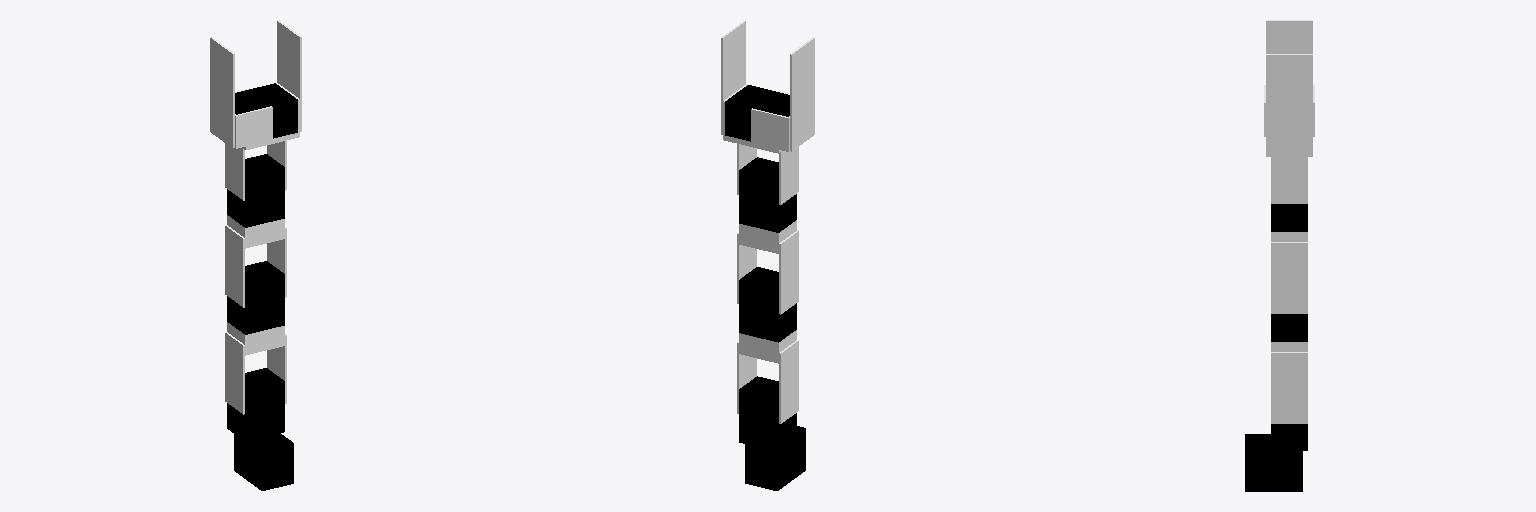
URDF robot description (MYRAbot-arm):
<?xml version="1.0" ?>
<!-- =================================================================================== -->
<!-- |    This document was autogenerated by xacro from brazo.urdf.xacro               | -->
<!-- |    EDITING THIS FILE BY HAND IS NOT RECOMMENDED                                 | -->
<!-- =================================================================================== -->
<robot name="MYRAbot-arm">
  <link name="base_link">
    <visual>
      <geometry>
        <box size="0.032 0.05 0.04"/>
      </geometry>
      <origin rpy="0 0 0" xyz="0 -0.0135 0.020"/>
      <material name="black">
        <color rgba="0 0 0 1"/>
      </material>
    </visual>
    <collision>
      <origin rpy="0 0 0" xyz="0 -0.0135 0.020"/>
      <geometry>
        <box size="0.032 0.05 0.04"/>
      </geometry>
    </collision>
    <inertial>
      <origin rpy="0 0 0" xyz="0 -0.0135 0.020"/>
      <mass value="0.055"/>
      <inertia ixx="0.01" ixy="0.0" ixz="0.0" iyy="0.01" iyz="0.0" izz="0.01"/>
    </inertial>
  </link>
  <link name="world"/>
  <joint name="fixed" type="fixed">
    <parent link="world"/>
    <child link="base_link"/>
    <origin rpy="0 0 0" xyz="0 0 0"/>
    <axis xyz="0 0 1"/>
  </joint>

  <joint name="base" type="revolute">
    <parent link="base_link"/>
    <child link="hombro_link"/>
    <origin rpy="0 0 0" xyz="0 0 0.04"/>
    <axis xyz="0 0 1"/>
    <limit effort="100.0" lower="-2.62" upper="2.62" velocity="3"/>
    <dynamics damping="0" fricction="0"/>
  </joint>
  <link name="hombro_link">
    <visual>
      <geometry>
        <box size="0.04 0.032 0.05"/>
      </geometry>
      <origin rpy="0 0 0" xyz="0 0 0.025"/>
      <material name="black"/>
    </visual>
    <collision>
      <origin rpy="0 0 0" xyz="0 0 0.025"/>
      <geometry>
        <box size="0.04 0.032 0.05"/>
      </geometry>
    </collision>
    <inertial>
      <origin rpy="0 0 0" xyz="0 0 0.025"/>
      <mass value="0.055"/>
      <inertia ixx="0.01" ixy="0.0" ixz="0.0" iyy="0.01" iyz="0.0" izz="0.01"/>
    </inertial>
  </link>
  <joint name="arti1" type="revolute">
    <parent link="hombro_link"/>
    <child link="brazo_link"/>
    <origin rpy="0 0 0" xyz="0 0 0.0385"/>
    <axis xyz="1 0 0"/>
    <limit effort="100.0" lower="-2.62" upper="2.62" velocity="3"/>
    <dynamics damping="0" fricction="0"/>
  </joint>
  <link name="brazo_link">
    <visual>
      <geometry>
        <box size="0.04 0.032 0.05"/>
      </geometry>
      <origin rpy="0 0 0" xyz="0 0 0.0905"/>
      <material name="black"/>
    </visual>
    <collision>
      <origin rpy="0 0 0" xyz="0 0 0.0905"/>
      <geometry>
        <box size="0.04 0.032 0.05"/>
      </geometry>
    </collision>
    <inertial>
      <origin rpy="0 0 0" xyz="0 0 0.0905"/>
      <mass value="0.055"/>
      <inertia ixx="0.01" ixy="0.0" ixz="0.0" iyy="0.01" iyz="0.0" izz="0.01"/>
    </inertial>
  </link>
  <joint name="servo_arti1_B" type="fixed">
    <parent link="brazo_link"/>
    <child link="brazo_link_B"/>
    <origin rpy="0 0 0" xyz="0 0 0"/>
    <axis xyz="1 0 0"/>
  </joint>
  <link name="brazo_link_B">
    <visual>
      <geometry>
        <box size="0.04 0.032 0.020"/>
      </geometry>
      <origin rpy="0 0 0" xyz="0 0 0.0555"/>
      <material name="white">
        <color rgba="1 1 1 1"/>
      </material>
    </visual>
    <collision>
      <origin rpy="0 0 0" xyz="0 0 0.0555"/>
      <geometry>
        <box size="0.04 0.032 0.02"/>
      </geometry>
    </collision>
    <inertial>
      <origin rpy="0 0 0" xyz="0 0 0.0555"/>
      <mass value="0.001"/>
      <inertia ixx="0.001" ixy="0.0" ixz="0.0" iyy="0.001" iyz="0.0" izz="0.001"/>
    </inertial>
  </link>
  <joint name="servo_arti1_D" type="fixed">
    <parent link="brazo_link"/>
    <child link="brazo_link_SI"/>
    <origin rpy="0 0 0" xyz="0 0 0"/>
    <axis xyz="1 0 0"/>
  </joint>
  <link name="brazo_link_SI">
    <visual>
      <geometry>
        <box size="0.002 0.032 0.067"/>
      </geometry>
      <origin rpy="0 0 0" xyz="0.021 0 0.022"/>
      <material name="white">
        <color rgba="1 1 1 1"/>
      </material>
    </visual>
    <collision>
      <origin rpy="0 0 0" xyz="0.021 0 0.022"/>
      <geometry>
        <box size="0.002 0.032 0.067"/>
      </geometry>
    </collision>
    <inertial>
      <origin rpy="0 0 0" xyz="0.021 0 0.022"/>
      <mass value="0.001"/>
      <inertia ixx="0.001" ixy="0.0" ixz="0.0" iyy="0.001" iyz="0.0" izz="0.001"/>
    </inertial>
  </link>
  <joint name="servo_arti1_I" type="fixed">
    <parent link="brazo_link"/>
    <child link="brazo_link_SD"/>
    <origin rpy="0 0 0" xyz="0 0 0"/>
    <axis xyz="1 0 0"/>
  </joint>
  <link name="brazo_link_SD">
    <visual>
      <geometry>
        <box size="0.002 0.032 0.067"/>
      </geometry>
      <origin rpy="0 0 0" xyz="-0.021 0 0.022"/>
      <material name="white">
        <color rgba="1 1 1 1"/>
      </material>
    </visual>
    <collision>
      <origin rpy="0 0 0" xyz="-0.021 0 0.022"/>
      <geometry>
        <box size="0.002 0.032 0.067"/>
      </geometry>
    </collision>
    <inertial>
      <origin rpy="0 0 0" xyz="-0.021 0 0.022"/>
      <mass value="0.001"/>
      <inertia ixx="0.001" ixy="0.0" ixz="0.0" iyy="0.001" iyz="0.0" izz="0.001"/>
    </inertial>
  </link>
  <joint name="arti2" type="revolute">
    <parent link="brazo_link"/>
    <child link="antebrazo_link"/>
    <origin rpy="0 0 0" xyz="0 0 0.104"/>
    <axis xyz="1 0 0"/>
    <limit effort="100.0" lower="-2.62" upper="2.62" velocity="3"/>
    <dynamics damping="0" fricction="0"/>
  </joint>
  <link name="antebrazo_link">
    <visual>
      <geometry>
        <box size="0.04 0.032 0.05"/>
      </geometry>
      <origin rpy="0 0 0" xyz="0 0 0.0905"/>
      <material name="black"/>
    </visual>
    <collision>
      <origin rpy="0 0 0" xyz="0 0 0.0905"/>
      <geometry>
        <box size="0.04 0.032 0.05"/>
      </geometry>
    </collision>
    <inertial>
      <origin rpy="0 0 0" xyz="0 0 0.0905"/>
      <mass value="0.055"/>
      <inertia ixx="0.01" ixy="0.0" ixz="0.0" iyy="0.01" iyz="0.0" izz="0.01"/>
    </inertial>
  </link>
  <joint name="servo_arti2_B" type="fixed">
    <parent link="antebrazo_link"/>
    <child link="antebrazo_link_B"/>
    <origin rpy="0 0 0" xyz="0 0 0"/>
    <axis xyz="1 0 0"/>
  </joint>
  <link name="antebrazo_link_B">
    <visual>
      <geometry>
        <box size="0.04 0.032 0.020"/>
      </geometry>
      <origin rpy="0 0 0" xyz="0 0 0.0555"/>
      <material name="white">
        <color rgba="1 1 1 1"/>
      </material>
    </visual>
    <collision>
      <origin rpy="0 0 0" xyz="0 0 0.0555"/>
      <geometry>
        <box size="0.04 0.032 0.02"/>
      </geometry>
    </collision>
    <inertial>
      <origin rpy="0 0 0" xyz="0 0 0.0555"/>
      <mass value="0.001"/>
      <inertia ixx="0.001" ixy="0.0" ixz="0.0" iyy="0.001" iyz="0.0" izz="0.001"/>
    </inertial>
  </link>
  <joint name="servo_arti2_D" type="fixed">
    <parent link="antebrazo_link"/>
    <child link="antebrazo_link_SI"/>
    <origin rpy="0 0 0" xyz="0 0 0"/>
    <axis xyz="1 0 0"/>
  </joint>
  <link name="antebrazo_link_SI">
    <visual>
      <geometry>
        <box size="0.002 0.032 0.067"/>
      </geometry>
      <origin rpy="0 0 0" xyz="0.021 0 0.022"/>
      <material name="white">
        <color rgba="1 1 1 1"/>
      </material>
    </visual>
    <collision>
      <origin rpy="0 0 0" xyz="0.021 0 0.022"/>
      <geometry>
        <box size="0.002 0.032 0.067"/>
      </geometry>
    </collision>
    <inertial>
      <origin rpy="0 0 0" xyz="0.021 0 0.022"/>
      <mass value="0.001"/>
      <inertia ixx="0.001" ixy="0.0" ixz="0.0" iyy="0.001" iyz="0.0" izz="0.001"/>
    </inertial>
  </link>
  <joint name="servo_arti2_I" type="fixed">
    <parent link="antebrazo_link"/>
    <child link="antebrazo_link_SD"/>
    <origin rpy="0 0 0" xyz="0 0 0"/>
    <axis xyz="1 0 0"/>
  </joint>
  <link name="antebrazo_link_SD">
    <visual>
      <geometry>
        <box size="0.002 0.032 0.067"/>
      </geometry>
      <origin rpy="0 0 0" xyz="-0.021 0 0.022"/>
      <material name="white">
        <color rgba="1 1 1 1"/>
      </material>
    </visual>
    <collision>
      <origin rpy="0 0 0" xyz="-0.021 0 0.022"/>
      <geometry>
        <box size="0.002 0.032 0.067"/>
      </geometry>
    </collision>
    <inertial>
      <origin rpy="0 0 0" xyz="-0.021 0 0.022"/>
      <mass value="0.001"/>
      <inertia ixx="0.001" ixy="0.0" ixz="0.0" iyy="0.001" iyz="0.0" izz="0.001"/>
    </inertial>
  </link>
  <joint name="arti3" type="revolute">
    <parent link="antebrazo_link"/>
    <child link="muneca_link"/>
    <origin rpy="0 0 0" xyz="0 0 0.104"/>
    <axis xyz="1 0 0"/>
    <limit effort="100.0" lower="-2.62" upper="2.62" velocity="3"/>
    <dynamics damping="0" fricction="0"/>
  </joint>
  <link name="muneca_link">
    <visual>
      <geometry>
        <box size="0.05 0.04 0.032"/>
      </geometry>
      <origin rpy="0 0 0" xyz="0.00625 0 0.06"/>
      <material name="black"/>
    </visual>
    <collision>
      <origin rpy="0 0 0" xyz="0.00625 0 0.06"/>
      <geometry>
        <box size="0.05 0.04 0.032"/>
      </geometry>
    </collision>
    <inertial>
      <origin rpy="0 0 0" xyz="0.00625 0 0.06"/>
      <mass value="0.055"/>
      <inertia ixx="0.01" ixy="0.0" ixz="0.0" iyy="0.01" iyz="0.0" izz="0.01"/>
    </inertial>
  </link>
  <joint name="servo_arti3_B" type="fixed">
    <parent link="muneca_link"/>
    <child link="muneca_link_B"/>
    <origin rpy="0 0 0" xyz="0 0 0"/>
    <axis xyz="1 0 0"/>
  </joint>
  <link name="muneca_link_B">
    <visual>
      <geometry>
        <box size="0.05325 0.04 0.005"/>
      </geometry>
      <origin rpy="0 0 0" xyz="0.004625 0 0.0415"/>
      <material name="white">
        <color rgba="1 1 1 1"/>
      </material>
    </visual>
    <collision>
      <origin rpy="0 0 0" xyz="0.004625 0 0.0415"/>
      <geometry>
        <box size="0.05325 0.04 0.005"/>
      </geometry>
    </collision>
    <inertial>
      <origin rpy="0 0 0" xyz="0.004625 0 0.0415"/>
      <mass value="0.0005"/>
      <inertia ixx="0.001" ixy="0.0" ixz="0.0" iyy="0.001" iyz="0.0" izz="0.001"/>
    </inertial>
  </link>
  <joint name="servo_arti3_D" type="fixed">
    <parent link="muneca_link"/>
    <child link="muneca_link_SI"/>
    <origin rpy="0 0 0" xyz="0 0 0"/>
    <axis xyz="1 0 0"/>
  </joint>
  <link name="muneca_link_SI">
    <visual>
      <geometry>
        <box size="0.002 0.032 0.0555"/>
      </geometry>
      <origin rpy="0 0 0" xyz="0.021 0 0.01625"/>
      <material name="white">
        <color rgba="1 1 1 1"/>
      </material>
    </visual>
    <collision>
      <origin rpy="0 0 0" xyz="0.021 0 0.01625"/>
      <geometry>
        <box size="0.002 0.032 0.0555"/>
      </geometry>
    </collision>
    <inertial>
      <origin rpy="0 0 0" xyz="0.021 0 0.01625"/>
      <mass value="0.0005"/>
      <inertia ixx="0.001" ixy="0.0" ixz="0.0" iyy="0.001" iyz="0.0" izz="0.001"/>
    </inertial>
  </link>
  <joint name="servo_arti3_I" type="fixed">
    <parent link="muneca_link"/>
    <child link="muneca_link_SD"/>
    <origin rpy="0 0 0" xyz="0 0 0"/>
    <axis xyz="1 0 0"/>
  </joint>
  <link name="muneca_link_SD">
    <visual>
      <geometry>
        <box size="0.002 0.032 0.0555"/>
      </geometry>
      <origin rpy="0 0 0" xyz="-0.021 0 0.01625"/>
      <material name="white">
        <color rgba="1 1 1 1"/>
      </material>
    </visual>
    <collision>
      <origin rpy="0 0 0" xyz="-0.021 0 0.01625"/>
      <geometry>
        <box size="0.002 0.032 0.0555"/>
      </geometry>
    </collision>
    <inertial>
      <origin rpy="0 0 0" xyz="-0.021 0 0.01625"/>
      <mass value="0.0005"/>
      <inertia ixx="0.001" ixy="0.0" ixz="0.0" iyy="0.001" iyz="0.0" izz="0.001"/>
    </inertial>
  </link>
  <joint name="servo_arti3_P" type="fixed">
    <parent link="muneca_link"/>
    <child link="muneca_link_P"/>
    <origin rpy="0 0 0" xyz="0 0 0"/>
    <axis xyz="1 0 0"/>
  </joint>
  <link name="muneca_link_P">
    <visual>
      <geometry>
        <box size="0.002 0.04 0.092"/>
      </geometry>
      <origin rpy="0 0 0" xyz="0.03425 0 0.090"/>
      <material name="white">
        <color rgba="1 1 1 1"/>
      </material>
    </visual>
    <collision>
      <origin rpy="0 0 0" xyz="0.03425 0 0.090"/>
      <geometry>
        <box size="0.002 0.04 0.092"/>
      </geometry>
    </collision>
    <inertial>
      <origin rpy="0 0 0" xyz="0.03425 0 0.090"/>
      <mass value="0.001"/>
      <inertia ixx="0.001" ixy="0.0" ixz="0.0" iyy="0.001" iyz="0.0" izz="0.001"/>
    </inertial>
  </link>
  <joint name="servo_arti3_PS" type="fixed">
    <parent link="muneca_link"/>
    <child link="muneca_link_PS"/>
    <origin rpy="0 0 0" xyz="0 0 0"/>
    <axis xyz="1 0 0"/>
  </joint>
  <link name="muneca_link_PS">
    <visual>
      <geometry>
        <box size="0.002 0.04 0.037"/>
      </geometry>
      <origin rpy="0 0 0" xyz="0.03225 0 0.0575"/>
      <material name="white">
        <color rgba="1 1 1 1"/>
      </material>
    </visual>
    <collision>
      <origin rpy="0 0 0" xyz="0.03225 0 0.0575"/>
      <geometry>
        <box size="0.002 0.04 0.037"/>
      </geometry>
    </collision>
    <inertial>
      <origin rpy="0 0 0" xyz="0.03225 0 0.0575"/>
      <mass value="0.0005"/>
      <inertia ixx="0.001" ixy="0.0" ixz="0.0" iyy="0.001" iyz="0.0" izz="0.001"/>
    </inertial>
  </link>
  <joint name="pinza" type="revolute">
    <parent link="muneca_link"/>
    <child link="pinza_link"/>
    <origin rpy="0 0 0" xyz="-0.00725 0 0.06"/>
    <axis xyz="0 1 0"/>
    <limit effort="100.0" lower="-2.62" upper="2.62" velocity="3"/>
    <dynamics damping="0" fricction="0"/>
  </joint>
  <link name="pinza_link">
    <visual>
      <geometry>
        <box size="0.002 0.04 0.092"/>
      </geometry>
      <origin rpy="0 0 0" xyz="-0.027 0 0.030"/>
      <material name="white">
        <color rgba="1 1 1 1"/>
      </material>
    </visual>
    <collision>
      <origin rpy="0 0 0" xyz="-0.027 0 0.030"/>
      <geometry>
        <box size="0.002 0.04 0.092"/>
      </geometry>
    </collision>
    <inertial>
      <origin rpy="0 0 0" xyz="-0.027 0 0.030"/>
      <mass value="0.001"/>
      <inertia ixx="0.001" ixy="0.0" ixz="0.0" iyy="0.001" iyz="0.0" izz="0.001"/>
    </inertial>
  </link>
  <joint name="servo_pinza_B" type="fixed">
    <parent link="pinza_link"/>
    <child link="pinza_link_B"/>
    <origin rpy="0 0 0" xyz="0 0 0"/>
    <axis xyz="1 0 0"/>
  </joint>
  <link name="pinza_link_B">
    <visual>
      <geometry>
        <box size="0.002 0.04 0.032"/>
      </geometry>
      <origin rpy="0 0 0" xyz="-0.025 0 0"/>
      <material name="white">
        <color rgba="1 1 1 1"/>
      </material>
    </visual>
    <collision>
      <origin rpy="0 0 0" xyz="-0.025 0 0"/>
      <geometry>
        <box size="0.002 0.04 0.032"/>
      </geometry>
    </collision>
    <inertial>
      <origin rpy="0 0 0" xyz="-0.025 0 0"/>
      <mass value="0.0005"/>
      <inertia ixx="0.001" ixy="0.0" ixz="0.0" iyy="0.001" iyz="0.0" izz="0.001"/>
    </inertial>
  </link>
  <joint name="servo_pinza_D" type="fixed">
    <parent link="pinza_link"/>
    <child link="pinza_link_SI"/>
    <origin rpy="0 0 0" xyz="0 0 0"/>
    <axis xyz="1 0 0"/>
  </joint>
  <link name="pinza_link_SI">
    <visual>
      <geometry>
        <box size="0.0375 0.002 0.032"/>
      </geometry>
      <origin rpy="0 0 0" xyz="-0.00725 0.021 0"/>
      <material name="white">
        <color rgba="1 1 1 1"/>
      </material>
    </visual>
    <collision>
      <origin rpy="0 0 0" xyz="-0.00725 0.021 0"/>
      <geometry>
        <box size="0.0375 0.002 0.032"/>
      </geometry>
    </collision>
    <inertial>
      <origin rpy="0 0 0" xyz="-0.00725 0.021 0"/>
      <mass value="0.0005"/>
      <inertia ixx="0.001" ixy="0.0" ixz="0.0" iyy="0.001" iyz="0.0" izz="0.001"/>
    </inertial>
  </link>
  <joint name="servo_pinza_I" type="fixed">
    <parent link="pinza_link"/>
    <child link="pinza_link_SD"/>
    <origin rpy="0 0 0" xyz="0 0 0"/>
    <axis xyz="1 0 0"/>
  </joint>
  <link name="pinza_link_SD">
    <visual>
      <geometry>
        <box size="0.0375 0.002 0.032"/>
      </geometry>
      <origin rpy="0 0 0" xyz="-0.00725 -0.021 0"/>
      <material name="white">
        <color rgba="1 1 1 1"/>
      </material>
    </visual>
    <collision>
      <origin rpy="0 0 0" xyz="-0.00725 -0.021 0"/>
      <geometry>
        <box size="0.0375 0.002 0.032"/>
      </geometry>
    </collision>
    <inertial>
      <origin rpy="0 0 0" xyz="-0.00725 -0.021 0"/>
      <mass value="0.0005"/>
      <inertia ixx="0.001" ixy="0.0" ixz="0.0" iyy="0.001" iyz="0.0" izz="0.001"/>
    </inertial>
  </link>
</robot>

--- What the picture shows (computed from the rendered views, not written in the file) ---
The picture shows the robot from 3 angles, left to right: view 1: azimuth 30°, elevation 25°; view 2: azimuth 150°, elevation 25°; view 3: azimuth 270°, elevation 25°; orthographic projection.
Model MYRAbot-arm with 21 links and 20 joints (5 revolute, 15 fixed), rooted at world, posed all joints at 0.
Visible links, largest first — view 1: brazo_link, antebrazo_link, hombro_link, base_link, pinza_link, muneca_link, muneca_link_P, brazo_link_SD, antebrazo_link_SD, pinza_link_SD, brazo_link_B, antebrazo_link_B (+3 smaller); view 2: hombro_link, brazo_link, antebrazo_link, pinza_link, base_link, muneca_link, muneca_link_P, antebrazo_link_SD, brazo_link_SD, pinza_link_SI, antebrazo_link_B, brazo_link_B (+3 smaller); view 3: muneca_link_P, base_link, brazo_link_SI, antebrazo_link_SI, muneca_link_SI, pinza_link, brazo_link, antebrazo_link, hombro_link.
Link boxes in pixels (x1,y1,x2,y2): brazo_link: (227,261,284,334); antebrazo_link: (227,154,284,227); hombro_link: (227,368,284,441); base_link: (234,433,293,490); pinza_link: (210,37,234,147); muneca_link: (235,83,297,138); muneca_link_P: (277,21,301,131); brazo_link_SD: (225,332,244,414); antebrazo_link_SD: (225,225,244,307); pinza_link_SD: (235,106,272,148); brazo_link_B: (227,322,284,355); antebrazo_link_B: (227,215,284,248); hombro_link: (739,376,796,451); brazo_link: (739,267,796,342); antebrazo_link: (739,157,796,232); pinza_link: (790,37,814,151); base_link: (745,426,805,490); muneca_link: (725,85,789,141); muneca_link_P: (721,21,745,134); antebrazo_link_SD: (779,230,798,314); brazo_link_SD: (779,340,798,423); pinza_link_SI: (751,108,789,151); antebrazo_link_B: (739,220,796,253); brazo_link_B: (739,330,796,363); muneca_link_P: (1266,54,1312,151); base_link: (1245,434,1302,491); brazo_link_SI: (1271,352,1307,423); antebrazo_link_SI: (1271,242,1307,313); muneca_link_SI: (1271,157,1307,203); pinza_link: (1266,20,1312,53); brazo_link: (1271,314,1307,341); antebrazo_link: (1271,204,1307,231); hombro_link: (1271,424,1307,450).
Size in the robot's own frame: 0.0705 by 0.0605 by 0.4225 metres.
Geometry: primitives only (box / cylinder / sphere), no mesh files.
